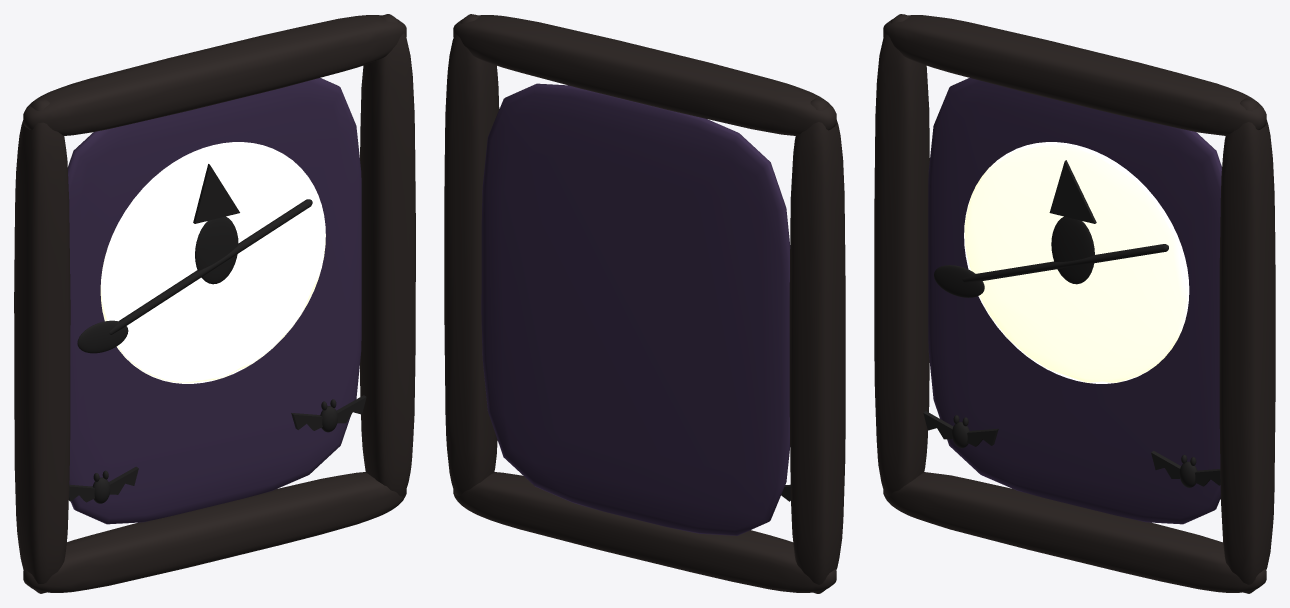
Rendered from deco_luna_bruja.glb.
3 renders of one model, left to right at view 1: azimuth 30°, elevation 25°; view 2: azimuth 150°, elevation 25°; view 3: azimuth 330°, elevation 25°, orthographic.
Visible parts, largest first — view 1: lienzo.020, luna bruja.001, marco vertical.040, marco vertical.041, marco horizontal.041, marco horizontal.040, bruja cuerpo.001, escoba bruja.001, sombrero bruja.001, paja escoba.002; view 2: lienzo.020, marco vertical.040, marco horizontal.041, marco vertical.041, marco horizontal.040; view 3: lienzo.020, luna bruja.001, marco vertical.041, marco vertical.040, marco horizontal.041, marco horizontal.040, bruja cuerpo.001, escoba bruja.001, sombrero bruja.001, paja escoba.002.
Boxes of the visible parts, box(x1,y1,x2,y2) form: lienzo.020: box(67, 78, 361, 524); luna bruja.001: box(100, 142, 325, 383); marco vertical.040: box(14, 98, 70, 593); marco vertical.041: box(360, 14, 415, 496); marco horizontal.041: box(23, 15, 406, 135); marco horizontal.040: box(23, 472, 406, 592); bruja cuerpo.001: box(195, 216, 238, 284); escoba bruja.001: box(109, 199, 312, 334); sombrero bruja.001: box(193, 164, 239, 223); paja escoba.002: box(77, 320, 128, 353); lienzo.020: box(481, 83, 790, 535); marco vertical.040: box(789, 98, 845, 593); marco horizontal.041: box(453, 15, 836, 135); marco vertical.041: box(444, 14, 499, 495); marco horizontal.040: box(453, 472, 836, 592); lienzo.020: box(928, 78, 1221, 524); luna bruja.001: box(964, 142, 1189, 383); marco vertical.041: box(1219, 98, 1275, 593); marco vertical.040: box(874, 14, 929, 496); marco horizontal.041: box(883, 15, 1266, 135); marco horizontal.040: box(883, 472, 1266, 592); bruja cuerpo.001: box(1051, 216, 1094, 284); escoba bruja.001: box(962, 244, 1168, 282); sombrero bruja.001: box(1049, 160, 1096, 223); paja escoba.002: box(934, 265, 984, 297).
Bounding box in the file's own units: 0.5096 × 0.6297 × 0.0598.
